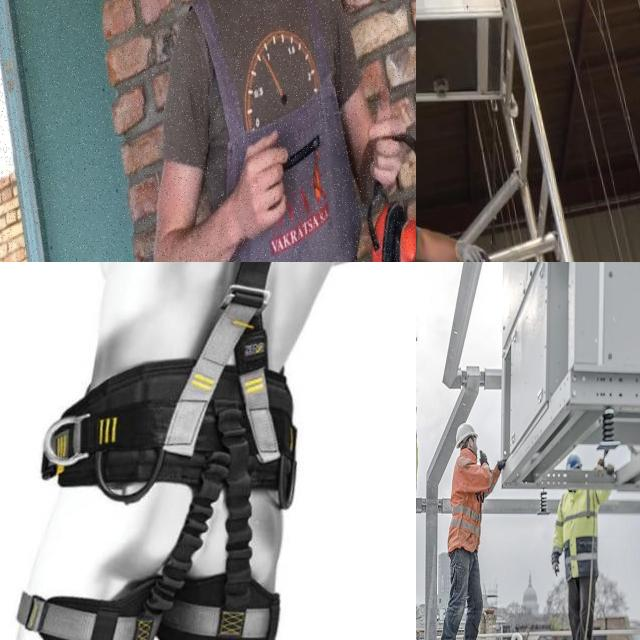Harness: (19, 262, 297, 640)
hand_glove: (478, 446, 491, 472)
head_helmet: (455, 421, 476, 446), (567, 455, 580, 470)
person: (437, 422, 495, 640), (555, 452, 610, 640)
vest: (552, 484, 600, 579), (448, 448, 486, 552)
